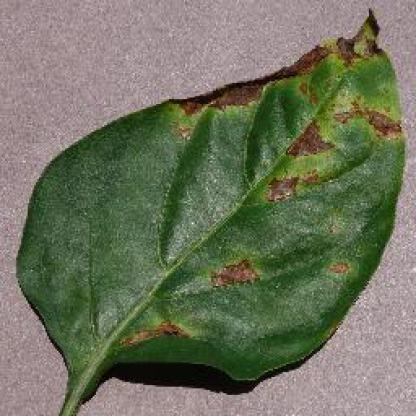bad leaf: (32, 5, 408, 413)
